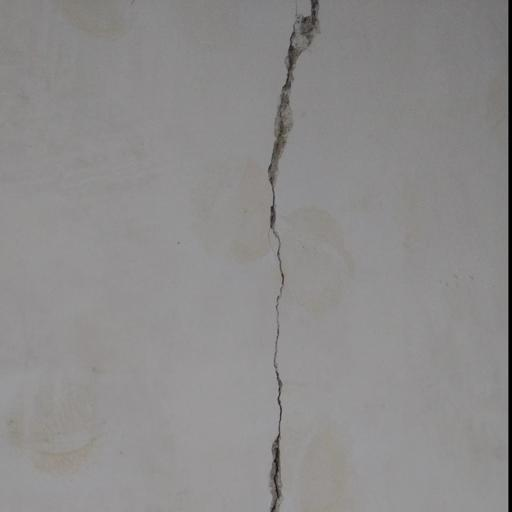major_crack: (261, 0, 336, 512)
